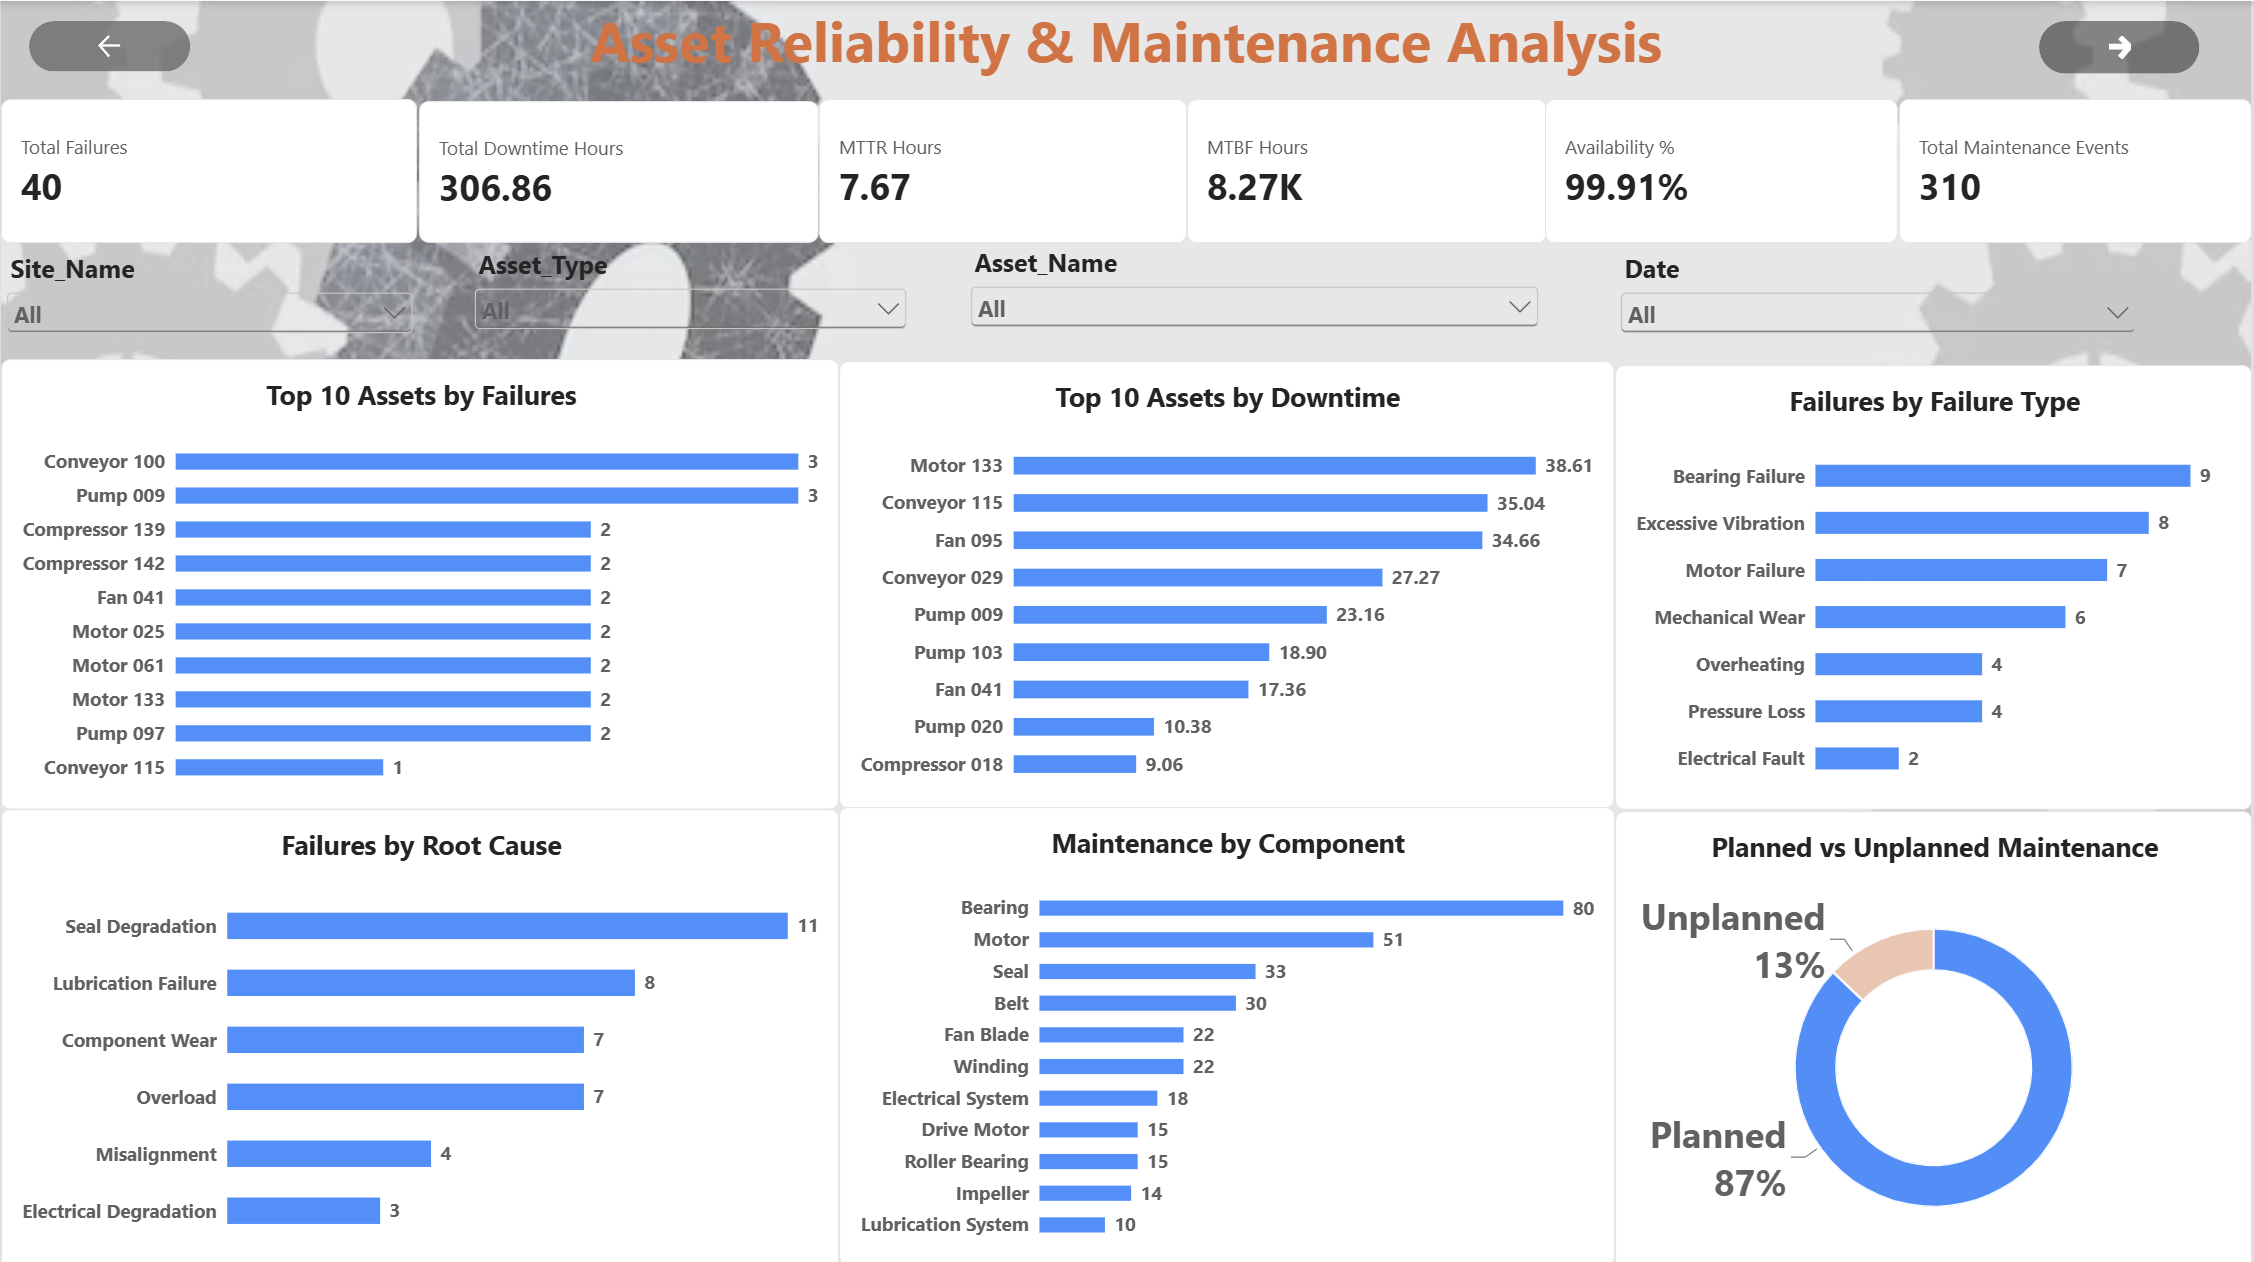

What the dashboard file says about the page in this screenshot:
{"tool":"powerbi","page":{"name":"Asset Reliability & Maintenance Analysis ","canvas":[1920,1080],"ordinal":2},"visuals":[{"type":"textbox","box":[0,0,1920,83.8],"z":0},{"type":"cardVisual","fields":{"Data":["fact_failure.Total Failures"]},"box":[0,83.8,355.9,123.5],"z":1000},{"type":"cardVisual","fields":{"Data":["fact_failure.Total Downtime Hours"]},"box":[355.9,85.8,341.3,121.4],"z":2000},{"type":"cardVisual","fields":{"Data":["dim_asset.MTTR Hours"]},"box":[697.2,83.8,314.1,123.5],"z":3000},{"type":"cardVisual","fields":{"Data":["dim_asset.MTBF Hours"]},"box":[1011.3,83.8,307.8,123.5],"z":4000},{"type":"cardVisual","fields":{"Data":["dim_asset.Availability %"]},"box":[1317,83.8,301.5,123.5],"z":5000},{"type":"cardVisual","fields":{"Data":["fact_maintenance.Total Maintenance Events"]},"box":[1618.5,83.8,301.5,123.5],"z":6000},{"type":"clusteredBarChart","title":"Top 10 Assets by Failures","fields":{"Category":["dim_asset.Asset_Name"],"Y":["fact_failure.Total Failures"]},"box":[0,305,715.2,384.5],"z":7000},{"type":"slicer","fields":{"Values":["dim_asset.Asset_Type"]},"box":[399.2,210.1,378.2,94.6],"z":8000},{"type":"slicer","fields":{"Values":["dim_site.Site_Name"]},"box":[0,212.7,355.9,92.1],"z":9000},{"type":"slicer","fields":{"Values":["dim_asset.Asset_Name"]},"box":[822.1,207.5,493.8,97.2],"z":10000},{"type":"slicer","fields":{"Values":["dim_date.Date"]},"box":[1376.3,212.7,449.1,118.2],"z":11000},{"type":"clusteredBarChart","title":"Top 10 Assets by Downtime","fields":{"Category":["dim_asset.Asset_Name"],"Y":["fact_failure.Total Downtime Hours"]},"box":[715.2,307.6,661.4,381.9],"z":12000},{"type":"clusteredBarChart","title":"Failures by Failure Type","fields":{"Category":["fact_failure.Failure_Type"],"Y":["fact_failure.Total Failures"]},"box":[1376.6,310.2,543.4,379.4],"z":13000},{"type":"clusteredBarChart","title":"Failures by Root Cause","fields":{"Category":["fact_failure.Root_Cause"],"Y":["fact_failure.Total Failures"]},"box":[0,689.6,715.2,392.2],"z":14000},{"type":"clusteredBarChart","title":"Maintenance by Component","fields":{"Category":["fact_maintenance.Component"],"Y":["fact_maintenance.Total Maintenance Events"]},"box":[714.4,688.2,661.9,391.4],"z":15000},{"type":"donutChart","title":"Planned vs Unplanned Maintenance","fields":{"Category":["fact_maintenance.Planned_Status"],"Y":["fact_maintenance.Total Maintenance Events"]},"box":[1376.3,690.8,543.7,394],"z":16000},{"type":"actionButton","box":[1738.2,16.3,136.9,44.9],"z":16001},{"type":"actionButton","box":[23.6,17.7,137.6,43.2],"z":16002}]}

Visuals, with their boxes in screenshot pixels (x1, y1, x2, y2), scaled from the page's 1920x1080 canvas onto the 2254x1262 screenshot:
textbox: (left=0, top=0, right=2253, bottom=98)
cardVisual - fact_failure.Total Failures: (left=0, top=98, right=418, bottom=242)
cardVisual - fact_failure.Total Downtime Hours: (left=418, top=100, right=818, bottom=242)
cardVisual - dim_asset.MTTR Hours: (left=818, top=98, right=1187, bottom=242)
cardVisual - dim_asset.MTBF Hours: (left=1187, top=98, right=1549, bottom=242)
cardVisual - dim_asset.Availability %: (left=1546, top=98, right=1900, bottom=242)
cardVisual - fact_maintenance.Total Maintenance Events: (left=1900, top=98, right=2253, bottom=242)
"Top 10 Assets by Failures" clusteredBarChart: (left=0, top=356, right=840, bottom=806)
slicer - dim_asset.Asset_Type: (left=469, top=246, right=913, bottom=356)
slicer - dim_site.Site_Name: (left=0, top=249, right=418, bottom=356)
slicer - dim_asset.Asset_Name: (left=965, top=242, right=1545, bottom=356)
slicer - dim_date.Date: (left=1616, top=249, right=2143, bottom=387)
"Top 10 Assets by Downtime" clusteredBarChart: (left=840, top=359, right=1616, bottom=806)
"Failures by Failure Type" clusteredBarChart: (left=1616, top=362, right=2253, bottom=806)
"Failures by Root Cause" clusteredBarChart: (left=0, top=806, right=840, bottom=1261)
"Maintenance by Component" clusteredBarChart: (left=839, top=804, right=1616, bottom=1261)
"Planned vs Unplanned Maintenance" donutChart: (left=1616, top=807, right=2253, bottom=1261)
actionButton: (left=2041, top=19, right=2201, bottom=72)
actionButton: (left=28, top=21, right=189, bottom=71)
